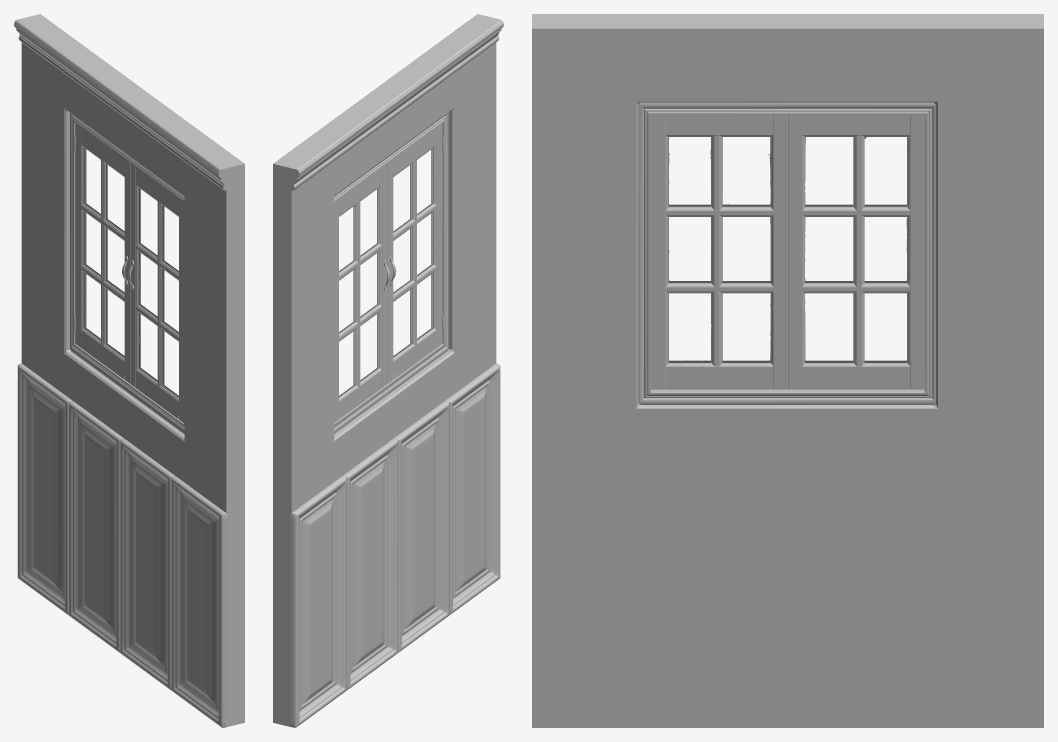
The model's file is Wall03.obj.
The picture shows the model from 3 angles, left to right: view 1: azimuth 30°, elevation 25°; view 2: azimuth 150°, elevation 25°; view 3: azimuth 270°, elevation 25°; orthographic projection. The views are drawn at different scales.
Visible parts, largest first — view 1: Wall03; view 2: Wall03; view 3: Wall03.
Part boxes in pixels (bbox=[...]): Wall03: bbox=[14, 14, 244, 727]; Wall03: bbox=[273, 14, 503, 727]; Wall03: bbox=[532, 14, 1043, 727].
Bounding box in the file's own units: 0.1487 × 3.01 × 2.
